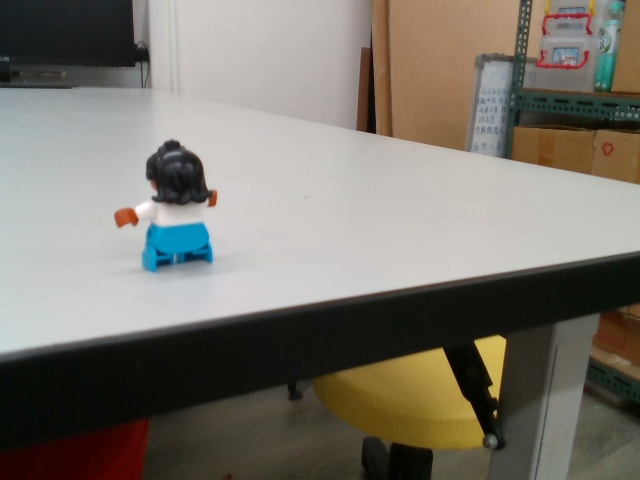people: (113, 134, 223, 274)
